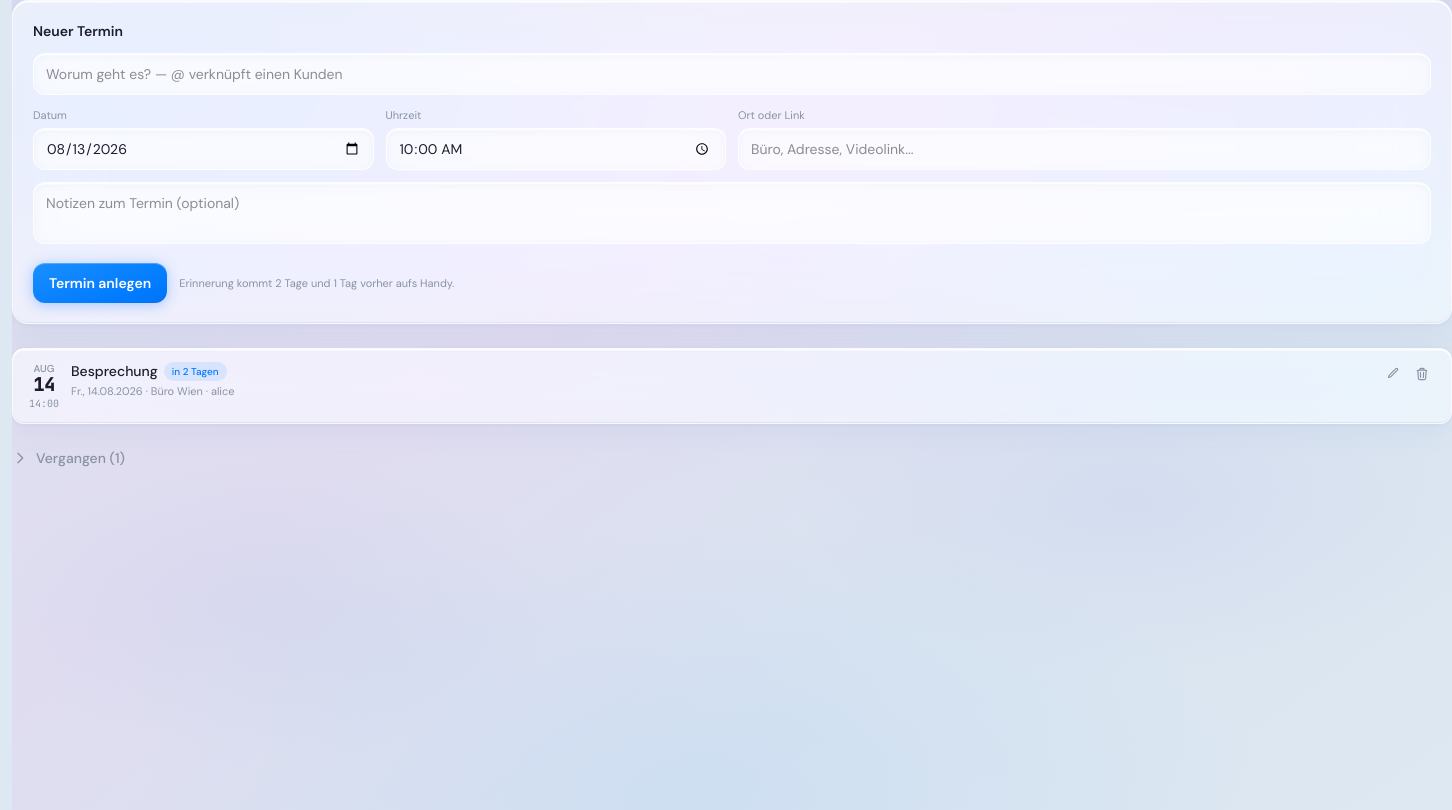
Test: AppointmentsPanel › trennt vergangene Termine ab und klappt sie erst auf Klick auf
expect the text "Besprechung" is shown: met, box [71,361,158,381]
expect the text "Alter Termin" is not shown: met
Click the button "Vergangen (1)": click(68, 458) [12,448,125,468]
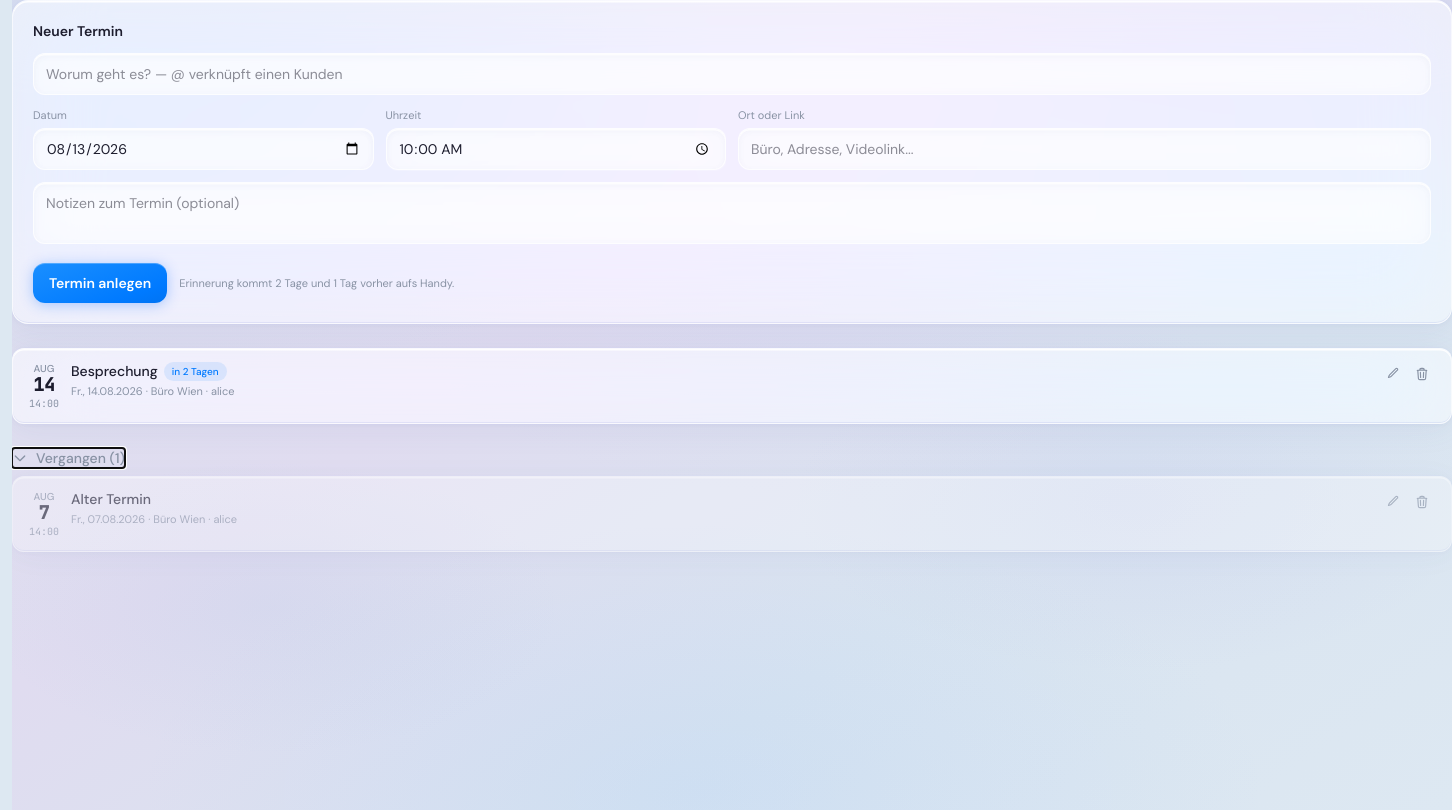
expect the text "Alter Termin" is shown: met, box [71,489,151,509]
